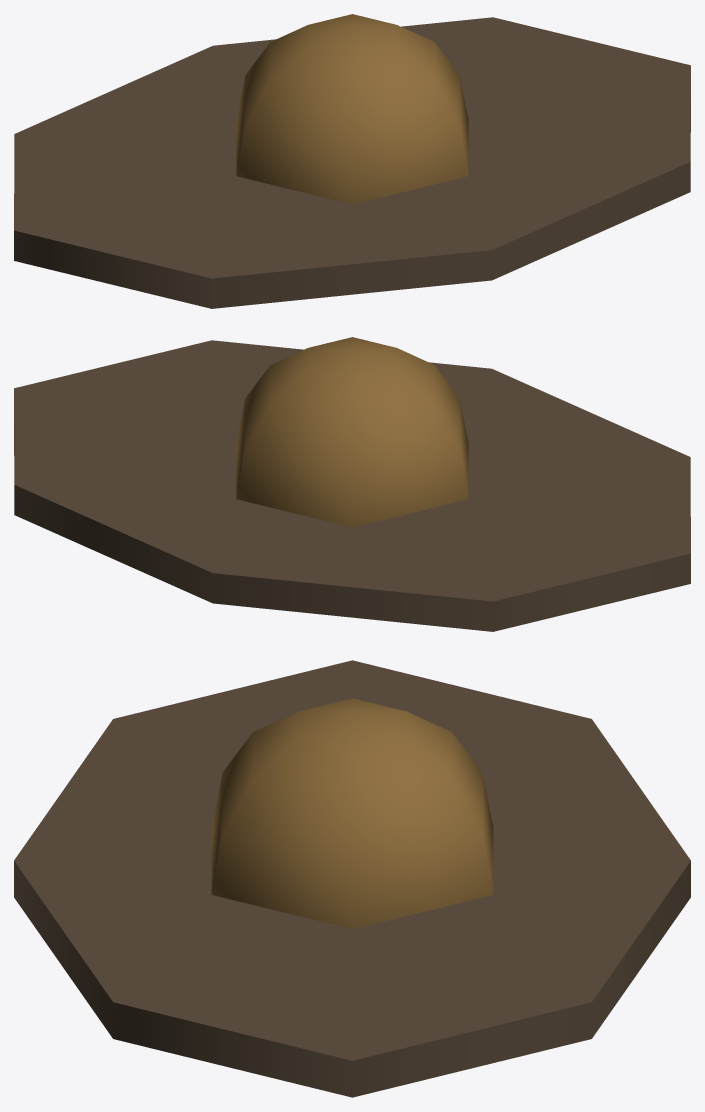
Rendered from food-platter.glb.
3 renders of one model, top to bottom at view 1: azimuth 30°, elevation 25°; view 2: azimuth 150°, elevation 25°; view 3: azimuth 270°, elevation 25°, orthographic. The views are drawn at different scales.
Size of the model in its own units: 0.7 by 0.15 by 0.5.
